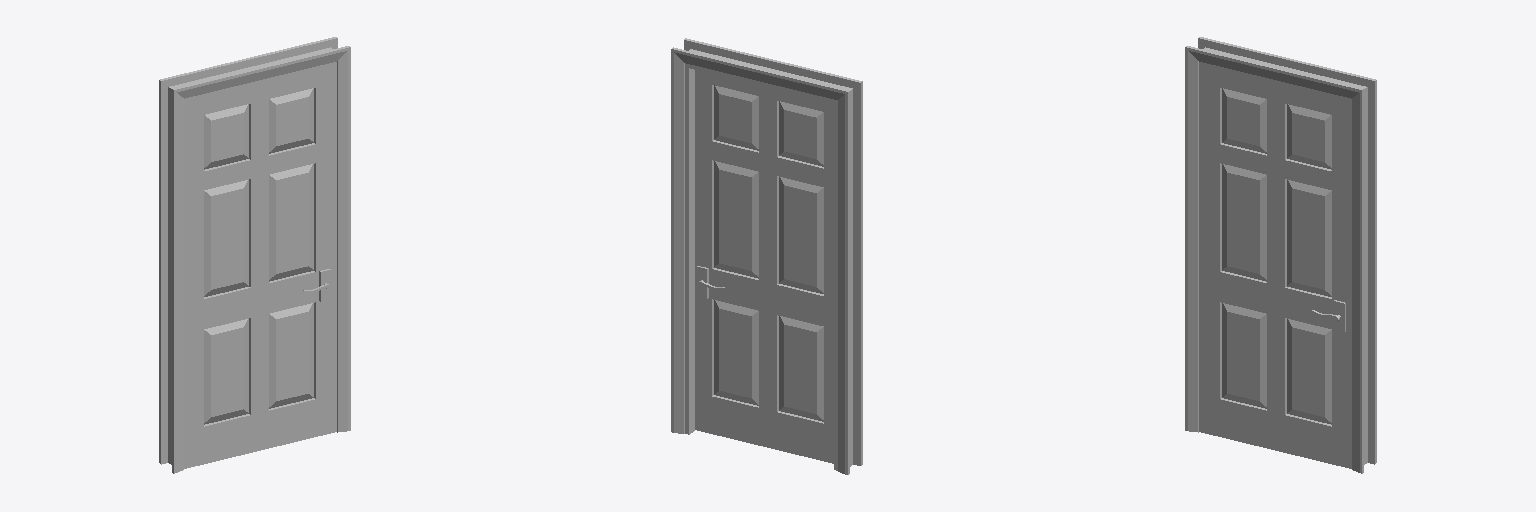
Rendered from door.obj.
3 views of the same model, side by side, from view 1: azimuth 30°, elevation 25°; view 2: azimuth 150°, elevation 25°; view 3: azimuth 330°, elevation 25° (orthographic).
Parts seen in each view (by area): view 1: d_model:intdoor_dxf_001; view 2: d_model:intdoor_dxf_001; view 3: d_model:intdoor_dxf_001.
Part boxes in pixels (x1,y1,x2,y2): d_model:intdoor_dxf_001: (159,37,350,473); d_model:intdoor_dxf_001: (671,38,862,474); d_model:intdoor_dxf_001: (1185,37,1376,473).
Size of the model in its own units: 0.9797 by 2.03 by 0.1616.